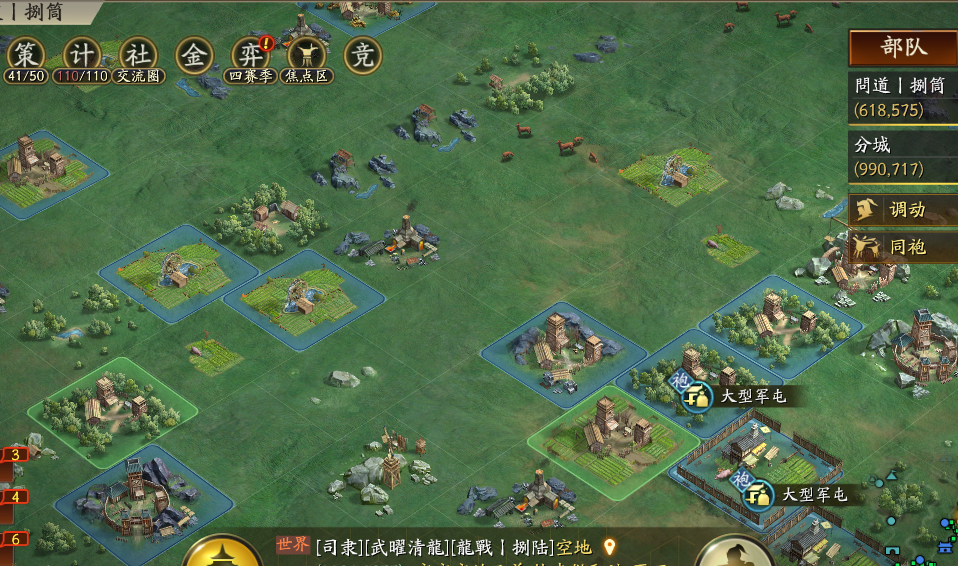lv05_wood_neutral: (183, 169, 357, 280)
